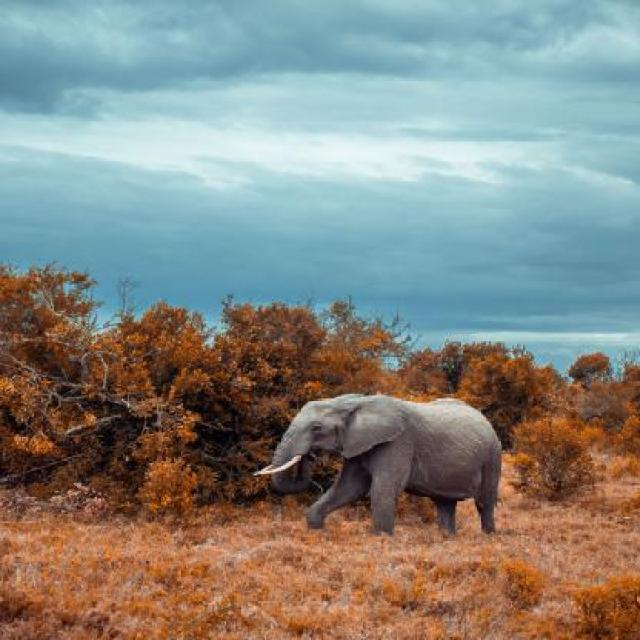Elephant: (242, 386, 521, 559)
